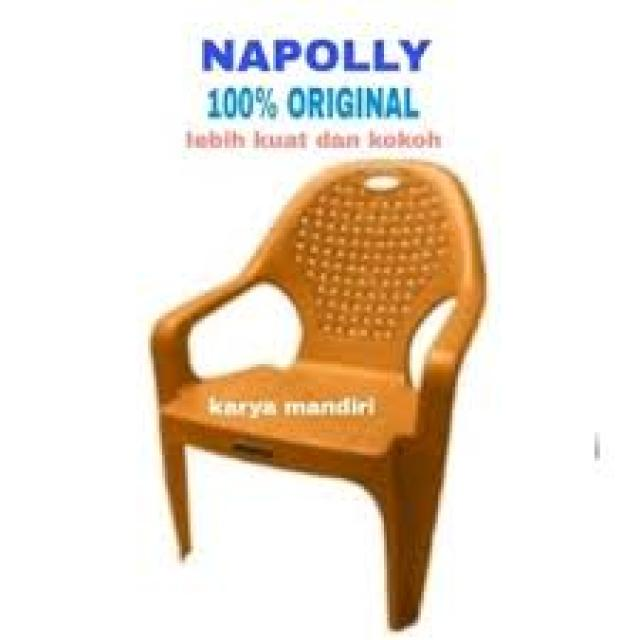chair: (149, 152, 482, 631)
